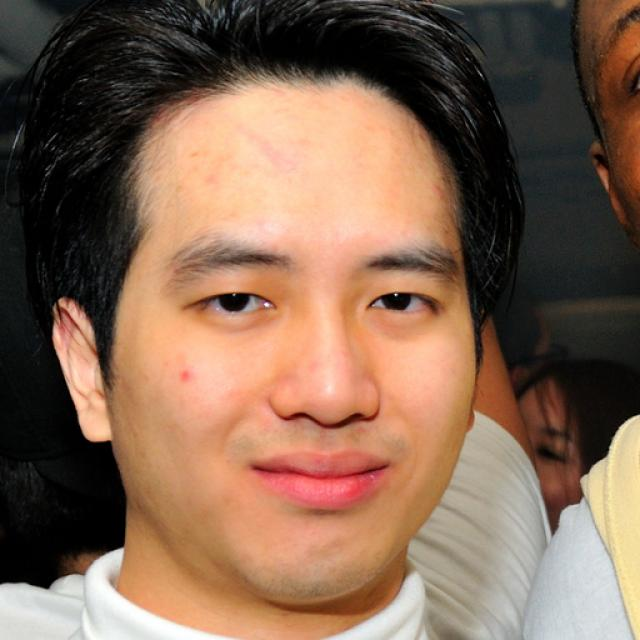Acne: (165, 357, 200, 387)
